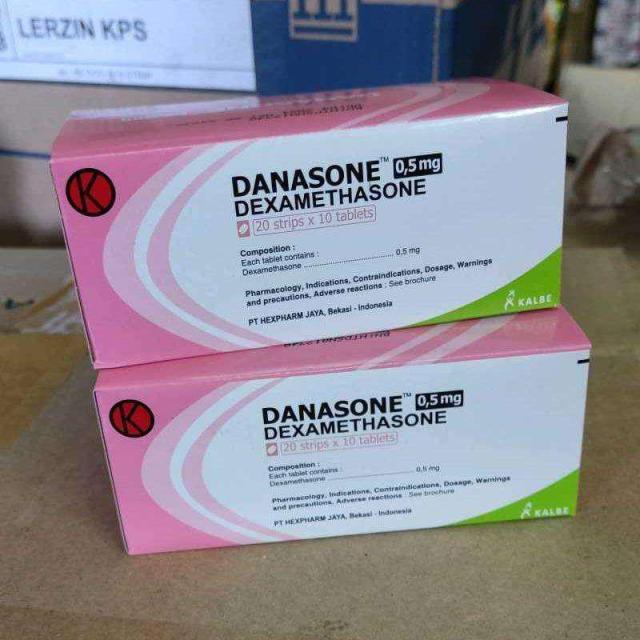drug-name: (228, 157, 384, 200)
